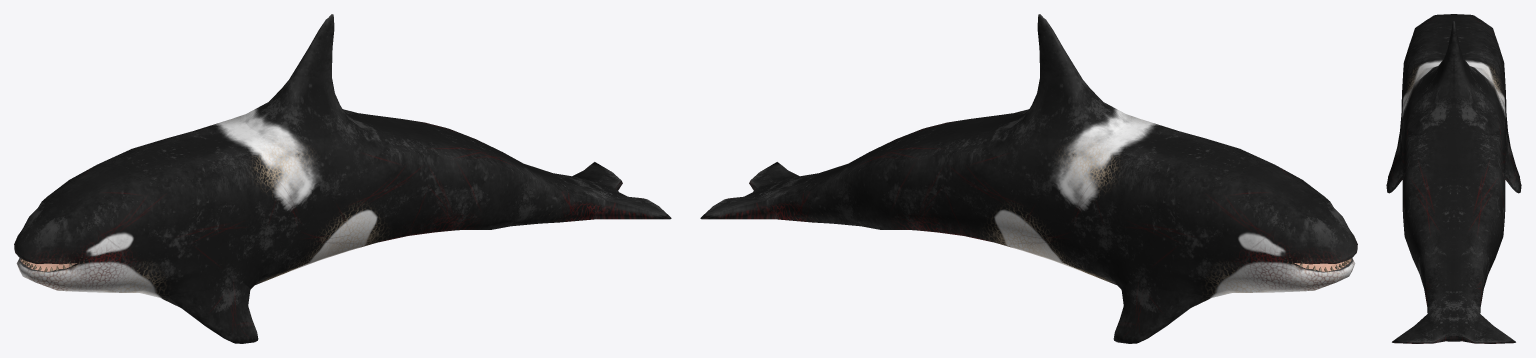
File: orca.glb
3 views of the same model, side by side, from view 1: azimuth 30°, elevation 25°; view 2: azimuth 150°, elevation 25°; view 3: azimuth 270°, elevation 25° (orthographic). The views are drawn at different scales.
Size of the model in its own units: 7.19 by 3.01 by 1.68.
Materials: 1 (1 with a texture image).
